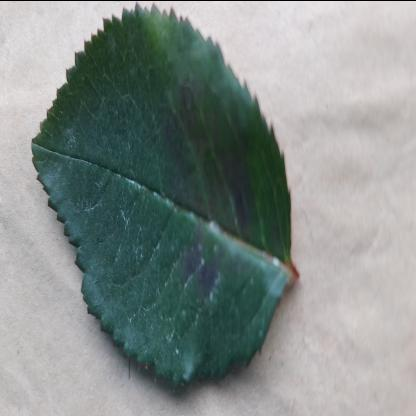downy-mildew: (29, 3, 293, 389)
